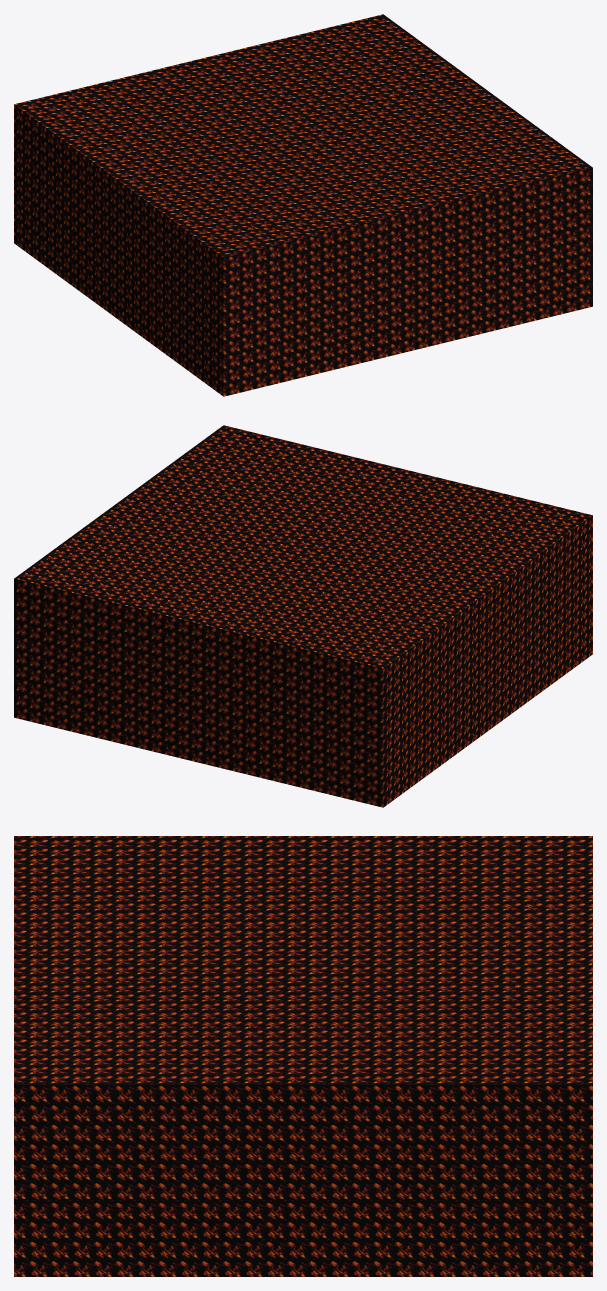
The model's file is lava.obj.
3 renders of one model, top to bottom at view 1: azimuth 30°, elevation 25°; view 2: azimuth 150°, elevation 25°; view 3: azimuth 270°, elevation 25°, orthographic. The views are drawn at different scales.
Visible parts, largest first — view 1: Cube; view 2: Cube; view 3: Cube.
Part boxes in pixels (x1,y1,x2,y2): Cube: [14, 14, 592, 396]; Cube: [14, 425, 592, 807]; Cube: [14, 836, 592, 1276].
Bounding box in the file's own units: 27.39 × 9.85 × 26.94.
